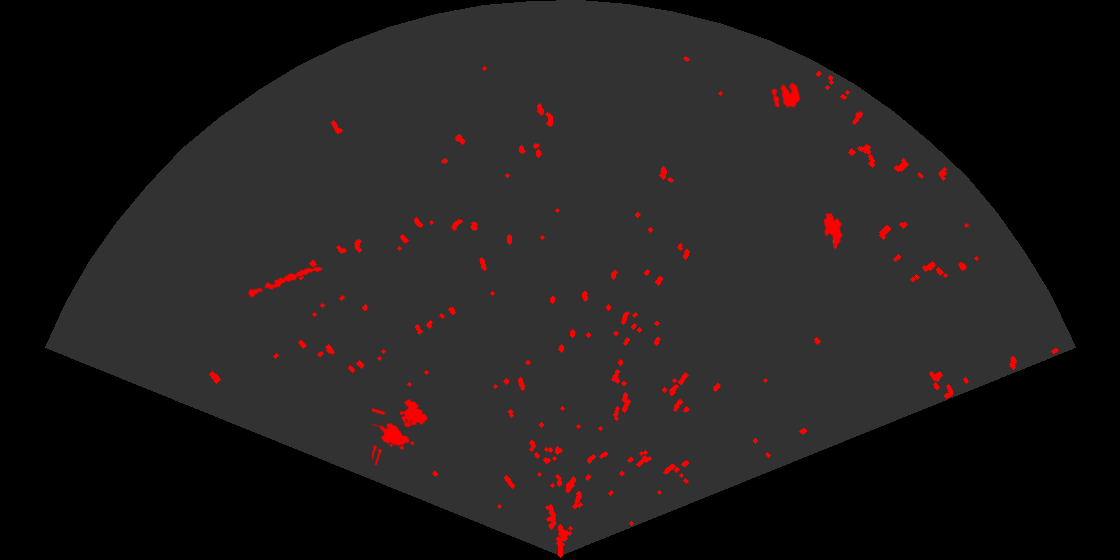AUV: (822, 211, 843, 251)
ball: (770, 81, 802, 110)
cage: (372, 397, 429, 465)
chain: (240, 265, 324, 300)
